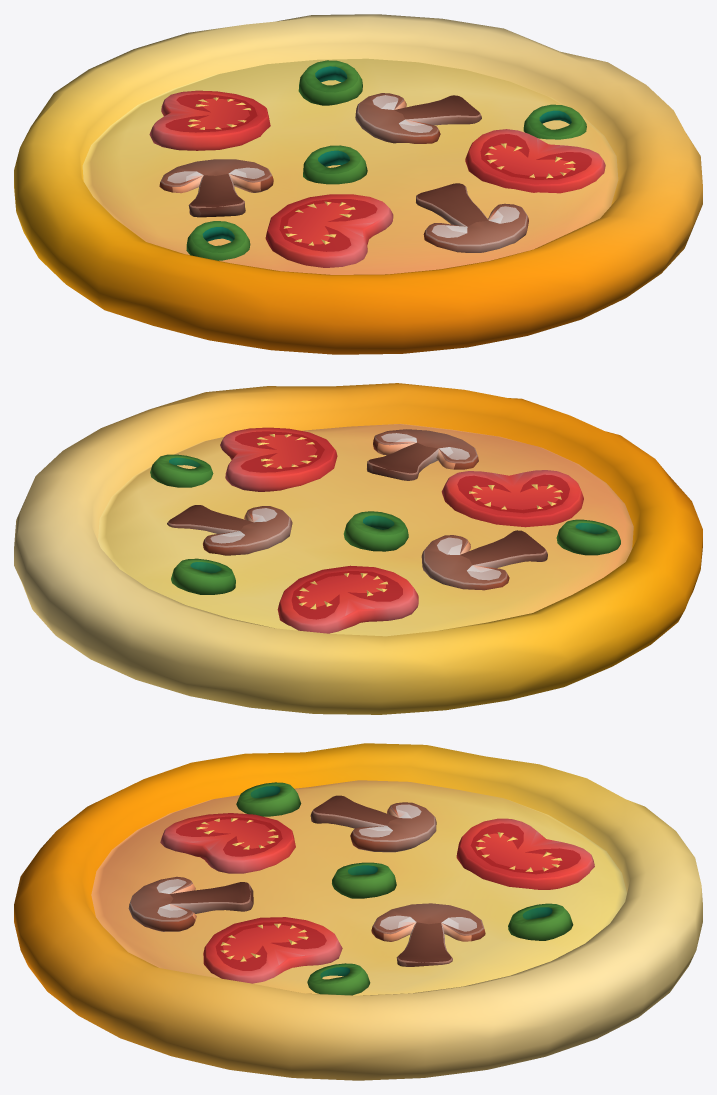
Rendered from pizza_001.fbx.
3 renders of one model, top to bottom at view 1: azimuth 30°, elevation 25°; view 2: azimuth 150°, elevation 25°; view 3: azimuth 270°, elevation 25°, orthographic.
Parts seen in each view (by area): view 1: pizza_001; view 2: pizza_001; view 3: pizza_001.
Boxes of the visible parts, x1,y1,x2,y2 form: pizza_001: [14, 14, 702, 354]; pizza_001: [14, 383, 702, 714]; pizza_001: [14, 743, 702, 1080].
Bounding box in the file's own units: 38.8 × 38.8 × 4.83.
